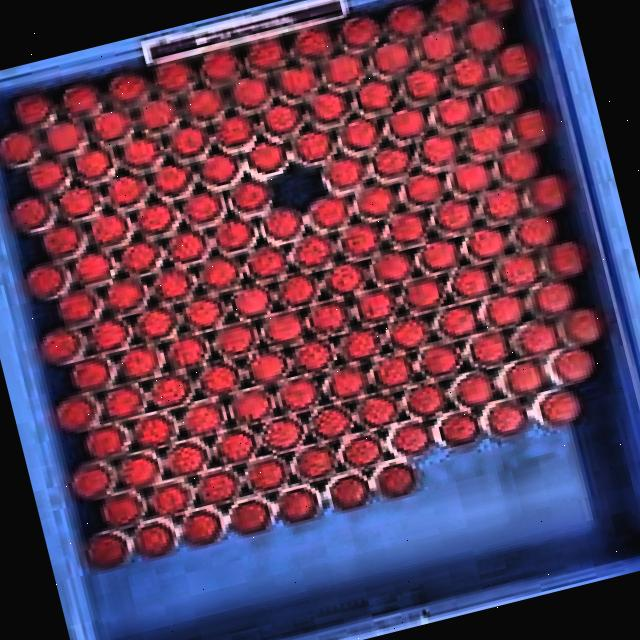vial: (275, 62, 319, 100), (403, 383, 448, 420), (339, 114, 384, 151), (461, 16, 508, 51), (242, 245, 288, 280), (8, 196, 54, 231), (514, 319, 560, 354), (295, 125, 335, 165), (247, 137, 289, 175), (481, 79, 523, 117), (213, 111, 256, 148), (12, 88, 55, 125), (433, 92, 476, 129), (511, 109, 555, 145), (25, 261, 66, 299), (370, 142, 413, 178), (246, 349, 290, 384), (385, 211, 429, 246), (38, 329, 83, 363), (554, 349, 599, 383), (308, 88, 349, 125), (468, 330, 510, 366), (420, 132, 462, 168), (371, 354, 414, 389), (152, 162, 195, 197), (155, 57, 194, 95), (529, 174, 568, 212), (329, 474, 369, 511), (419, 343, 460, 379), (401, 171, 443, 206), (167, 124, 209, 159), (370, 39, 412, 74), (262, 416, 305, 450), (390, 422, 433, 456), (324, 262, 367, 296), (351, 78, 394, 112), (295, 337, 334, 374), (55, 394, 95, 430), (200, 151, 241, 186), (440, 410, 481, 445), (539, 390, 580, 425), (387, 105, 428, 140), (261, 205, 303, 239), (385, 2, 427, 36), (464, 122, 507, 155), (374, 249, 413, 285), (378, 463, 418, 498), (405, 277, 445, 312), (199, 468, 239, 503), (568, 306, 608, 341), (293, 24, 333, 59), (108, 279, 149, 313), (120, 240, 161, 274), (232, 74, 273, 108), (262, 103, 304, 136), (105, 69, 147, 102), (451, 162, 493, 195), (233, 388, 276, 420), (295, 234, 334, 269), (136, 201, 175, 236), (325, 156, 365, 190), (454, 374, 494, 408), (340, 13, 380, 47), (418, 239, 459, 272), (500, 150, 541, 183), (452, 265, 493, 298), (106, 174, 148, 206), (355, 187, 398, 218), (201, 256, 238, 292), (42, 224, 79, 260), (74, 463, 112, 498), (316, 406, 354, 441), (75, 249, 113, 284), (0, 130, 38, 165), (327, 50, 365, 85), (152, 374, 191, 408), (204, 50, 243, 84), (419, 28, 458, 62), (342, 436, 382, 469), (342, 329, 382, 362), (27, 158, 68, 190), (548, 242, 589, 274), (515, 215, 556, 247), (170, 334, 207, 369), (344, 222, 381, 257), (90, 211, 127, 246), (485, 186, 522, 221), (280, 487, 318, 521), (105, 493, 143, 527), (75, 147, 113, 181), (63, 81, 101, 115), (310, 195, 349, 228), (231, 180, 270, 213), (184, 191, 223, 224), (486, 400, 525, 433), (506, 363, 545, 396), (451, 55, 490, 88), (217, 431, 257, 463), (467, 228, 508, 259), (108, 386, 144, 421), (297, 445, 334, 479), (186, 86, 223, 120), (88, 424, 126, 457), (312, 301, 350, 334), (155, 268, 193, 301), (169, 230, 207, 263), (486, 294, 524, 327), (154, 482, 192, 515), (198, 363, 237, 395), (138, 306, 177, 338), (359, 396, 399, 427), (498, 255, 539, 285), (123, 344, 156, 381), (71, 357, 109, 389), (46, 119, 84, 151), (91, 110, 129, 142), (536, 280, 574, 312), (282, 380, 321, 411), (390, 318, 429, 349), (233, 287, 272, 318), (121, 137, 160, 168), (186, 511, 221, 545), (60, 291, 97, 323), (187, 403, 225, 434), (184, 298, 222, 329), (216, 219, 254, 250), (499, 41, 532, 76), (234, 500, 270, 532), (357, 291, 393, 323), (266, 311, 303, 342), (280, 276, 317, 307), (437, 199, 474, 230), (441, 304, 478, 335), (59, 185, 97, 215), (139, 523, 173, 556), (249, 39, 283, 72), (124, 455, 160, 486), (329, 371, 366, 401), (92, 535, 126, 567), (92, 318, 126, 350), (137, 99, 173, 129), (403, 70, 440, 99), (170, 444, 205, 474), (138, 416, 174, 445), (221, 324, 255, 353), (431, 0, 471, 24), (254, 460, 285, 490), (481, 0, 519, 12)
